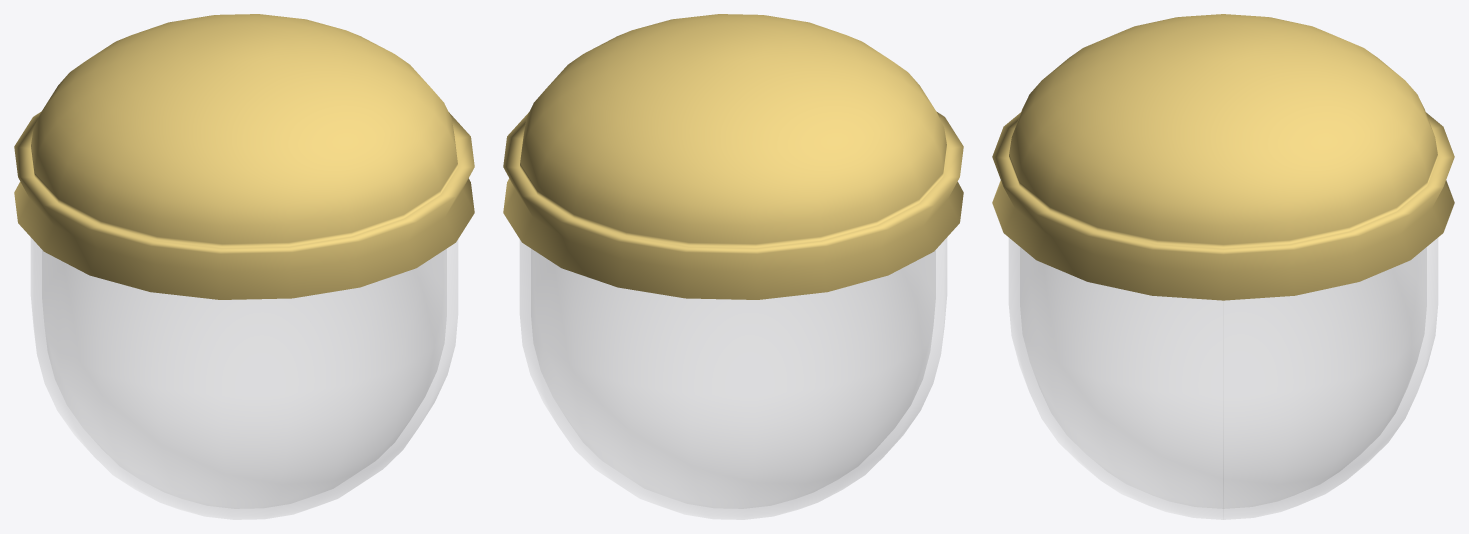
File: capsule_yellow.glb
3 views of the same model, side by side, from view 1: azimuth 30°, elevation 25°; view 2: azimuth 150°, elevation 25°; view 3: azimuth 270°, elevation 25° (orthographic).
Parts seen in each view (by area): view 1: CapsuleYellowTop, CapsuleYellowBottom; view 2: CapsuleYellowTop, CapsuleYellowBottom; view 3: CapsuleYellowTop, CapsuleYellowBottom.
Boxes of the visible parts, <box> form: CapsuleYellowTop: <box>14,14,474,299</box>; CapsuleYellowBottom: <box>31,238,457,519</box>; CapsuleYellowTop: <box>503,14,963,299</box>; CapsuleYellowBottom: <box>520,238,946,519</box>; CapsuleYellowTop: <box>992,14,1454,300</box>; CapsuleYellowBottom: <box>1009,238,1437,519</box>.
Size of the model in its own units: 0.021 by 0.0227 by 0.021.
